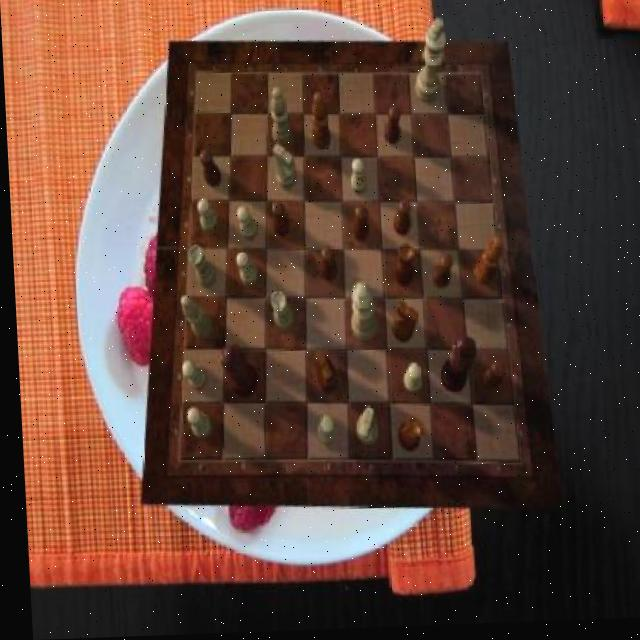bishop: (469, 240, 501, 288), (309, 94, 331, 152)
black-bishop: (435, 339, 474, 396)
black-king: (388, 302, 417, 345), (312, 352, 334, 395)
black-knight: (429, 256, 452, 292), (477, 364, 502, 396), (199, 151, 220, 189), (380, 109, 399, 149), (390, 202, 409, 239), (269, 203, 288, 239), (349, 208, 367, 245), (315, 249, 334, 284)
black-pawn: (217, 345, 257, 401)
black-queen: (389, 245, 413, 288), (393, 419, 419, 454)
black-rook: (178, 296, 210, 341), (268, 89, 290, 148)
white-bishop: (411, 21, 447, 106)
white-king: (271, 145, 295, 192), (351, 409, 375, 449)
white-knight: (183, 408, 209, 441), (178, 362, 204, 394), (234, 253, 256, 288), (196, 199, 217, 234), (235, 208, 256, 243), (398, 365, 419, 397), (347, 162, 365, 199), (313, 417, 331, 448)
white-pawn: (347, 284, 374, 344)
white-queen: (186, 246, 215, 290), (268, 293, 290, 334)
